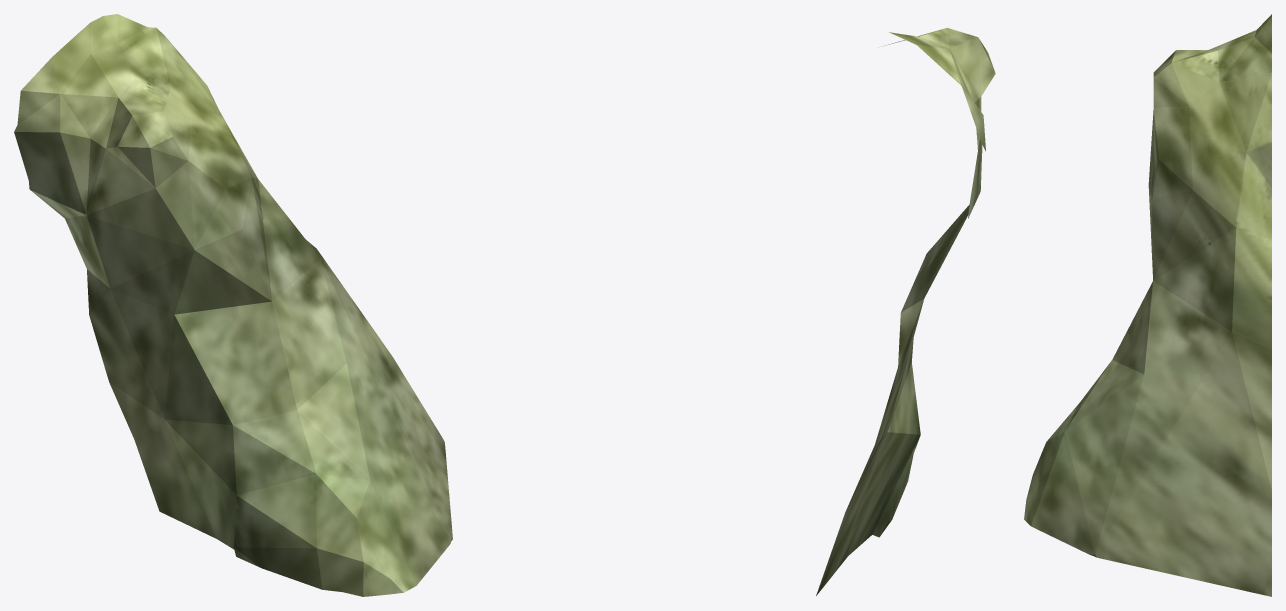
3 views of the same model, side by side, from view 1: azimuth 30°, elevation 25°; view 2: azimuth 150°, elevation 25°; view 3: azimuth 270°, elevation 25° (orthographic). The views are drawn at different scales.
Size of the model in its own units: 1.64 by 1.85 by 0.9509.
Materials: 1 (1 with a texture image).
